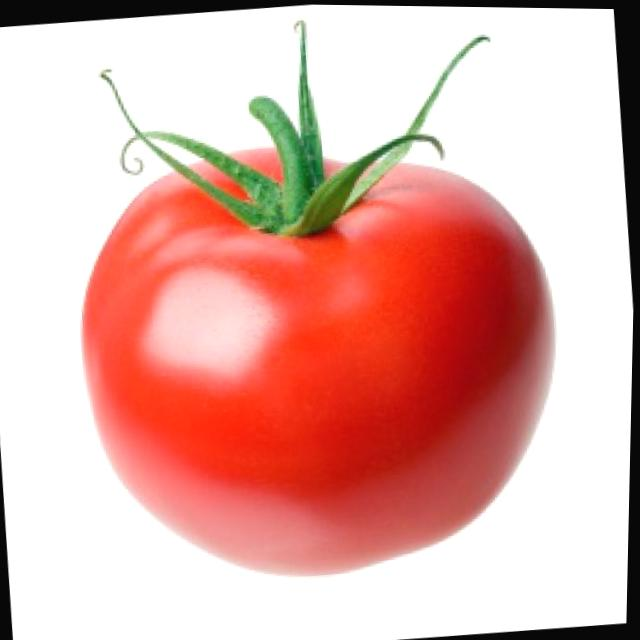tomato: (65, 120, 579, 593)
